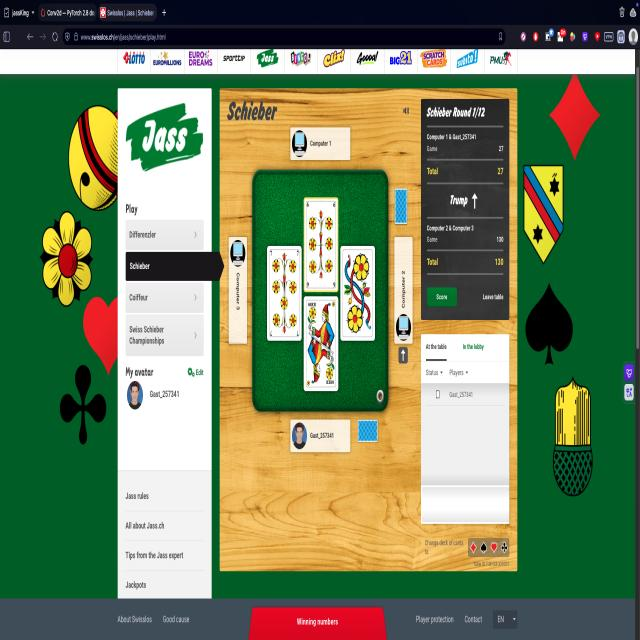ro6: (305, 199, 338, 295)
ro7: (267, 248, 301, 341)
roa: (342, 248, 374, 341)
roo: (305, 297, 338, 387)
